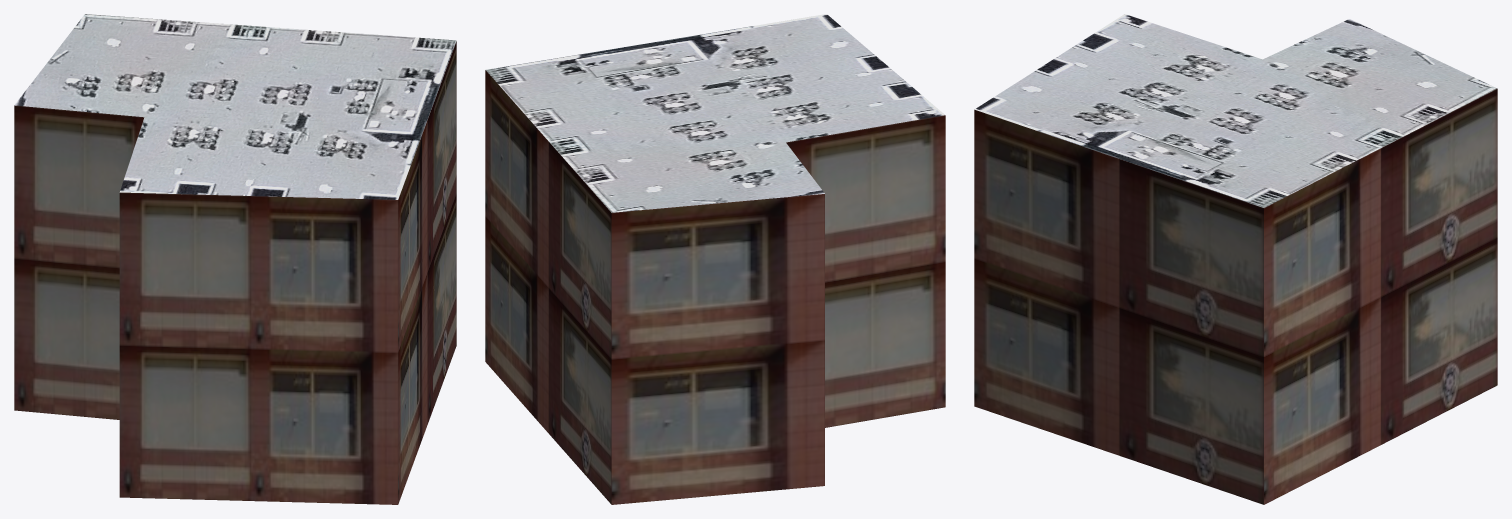
Rendered from ResTex__669.fbx.
The picture shows the model from 3 angles, left to right: view 1: azimuth 30°, elevation 25°; view 2: azimuth 150°, elevation 25°; view 3: azimuth 270°, elevation 25°; orthographic projection. The views are drawn at different scales.
Visible parts, largest first — view 1: CityEngineMaterial_13_m, CityEngineMaterial_4_m; view 2: CityEngineMaterial_13_m, CityEngineMaterial_4_m; view 3: CityEngineMaterial_13_m, CityEngineMaterial_4_m.
Part boxes in pixels (left/top/right/bottom): CityEngineMaterial_13_m: left=14, top=41, right=456, bottom=504; CityEngineMaterial_4_m: left=14, top=14, right=456, bottom=199; CityEngineMaterial_13_m: left=485, top=70, right=945, bottom=504; CityEngineMaterial_4_m: left=486, top=14, right=944, bottom=212; CityEngineMaterial_13_m: left=974, top=88, right=1497, bottom=504; CityEngineMaterial_4_m: left=975, top=14, right=1497, bottom=207.
Size of the model in its own units: 8.41 by 6 by 9.59.
2 materials, 2 textured.
